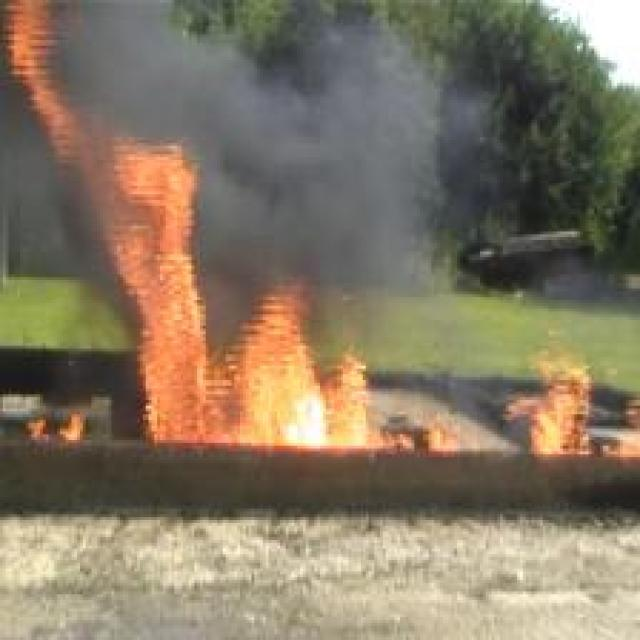Fire: (7, 2, 416, 452), (501, 352, 596, 454), (62, 413, 84, 441)
